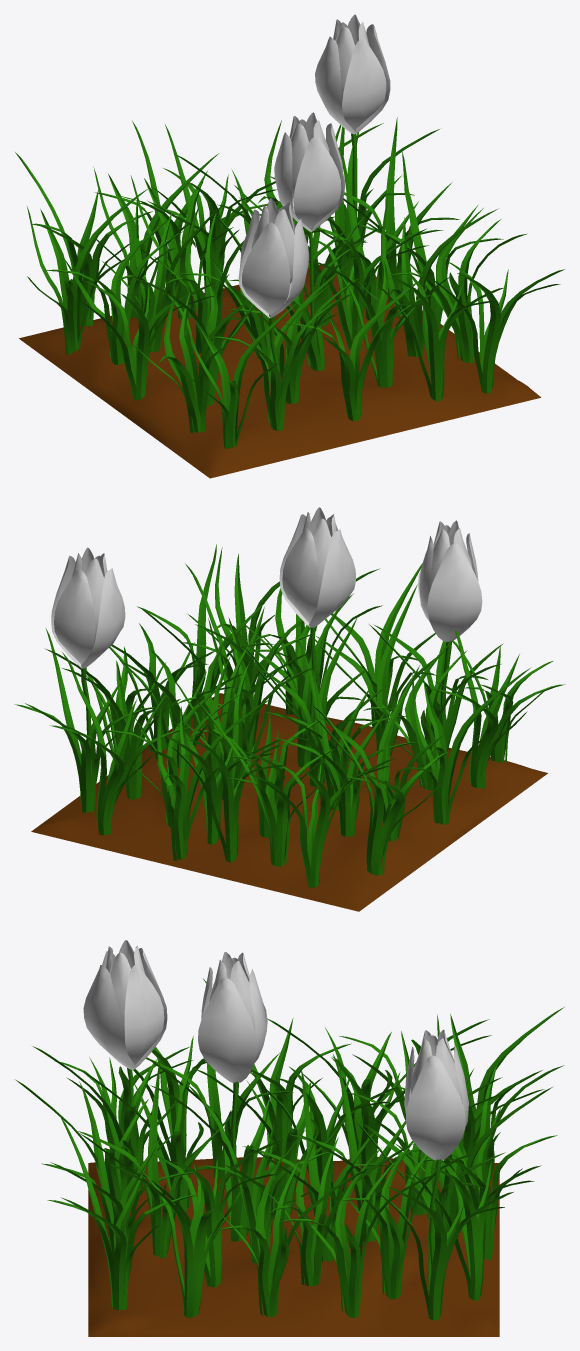
Rendered from white-tulip-p2-bloom.glb.
3 renders of one model, top to bottom at view 1: azimuth 30°, elevation 25°; view 2: azimuth 150°, elevation 25°; view 3: azimuth 270°, elevation 25°, orthographic. The views are drawn at different scales.
Parts seen in each view (by area): view 1: 2_nft_bloom; view 2: 2_nft_bloom; view 3: 2_nft_bloom.
Boxes of the visible parts, <box> form: 2_nft_bloom: <box>15,14,564,478</box>; 2_nft_bloom: <box>14,507,565,911</box>; 2_nft_bloom: <box>15,940,564,1336</box>.
Bounding box in the file's own units: 0.8607 × 0.5501 × 0.9388.
